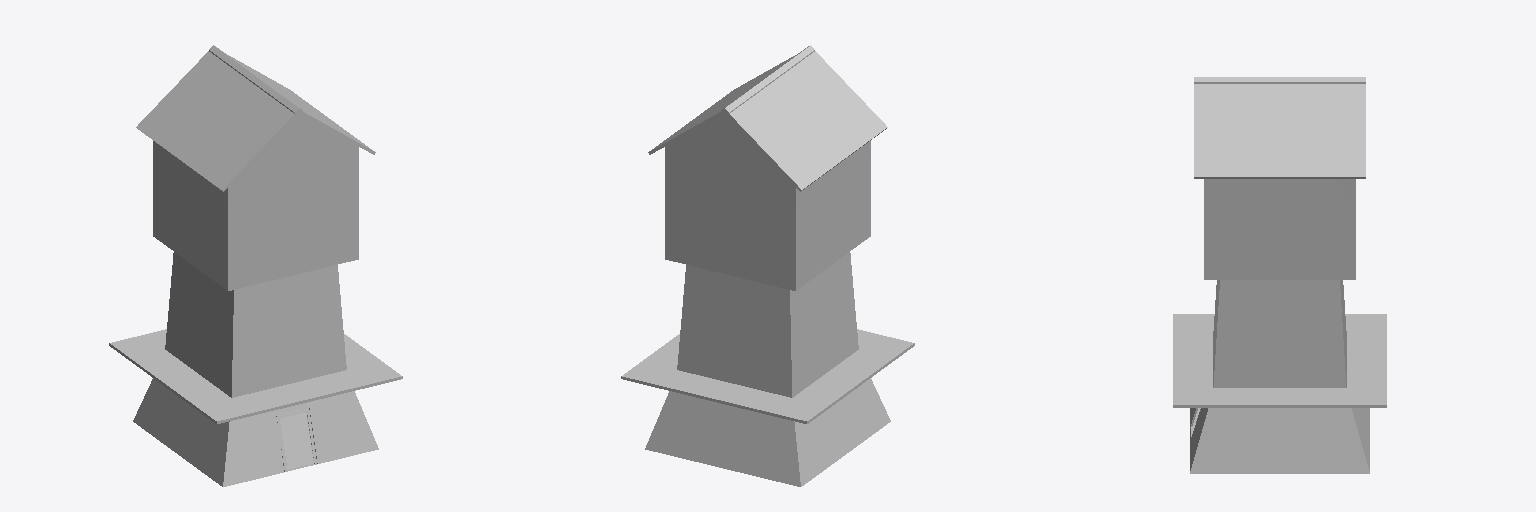
The model's file is windmillbase.obj.
3 views of the same model, side by side, from view 1: azimuth 30°, elevation 25°; view 2: azimuth 150°, elevation 25°; view 3: azimuth 270°, elevation 25° (orthographic).
Parts seen in each view (by area): view 1: Wind_Mill_Cube; view 2: Wind_Mill_Cube; view 3: Wind_Mill_Cube.
Boxes of the visible parts, box(x1,y1,x2,y2) form: Wind_Mill_Cube: box(109, 45, 402, 486); Wind_Mill_Cube: box(621, 45, 914, 486); Wind_Mill_Cube: box(1173, 77, 1386, 473).
Size of the model in its own units: 10.89 by 20.09 by 10.89.